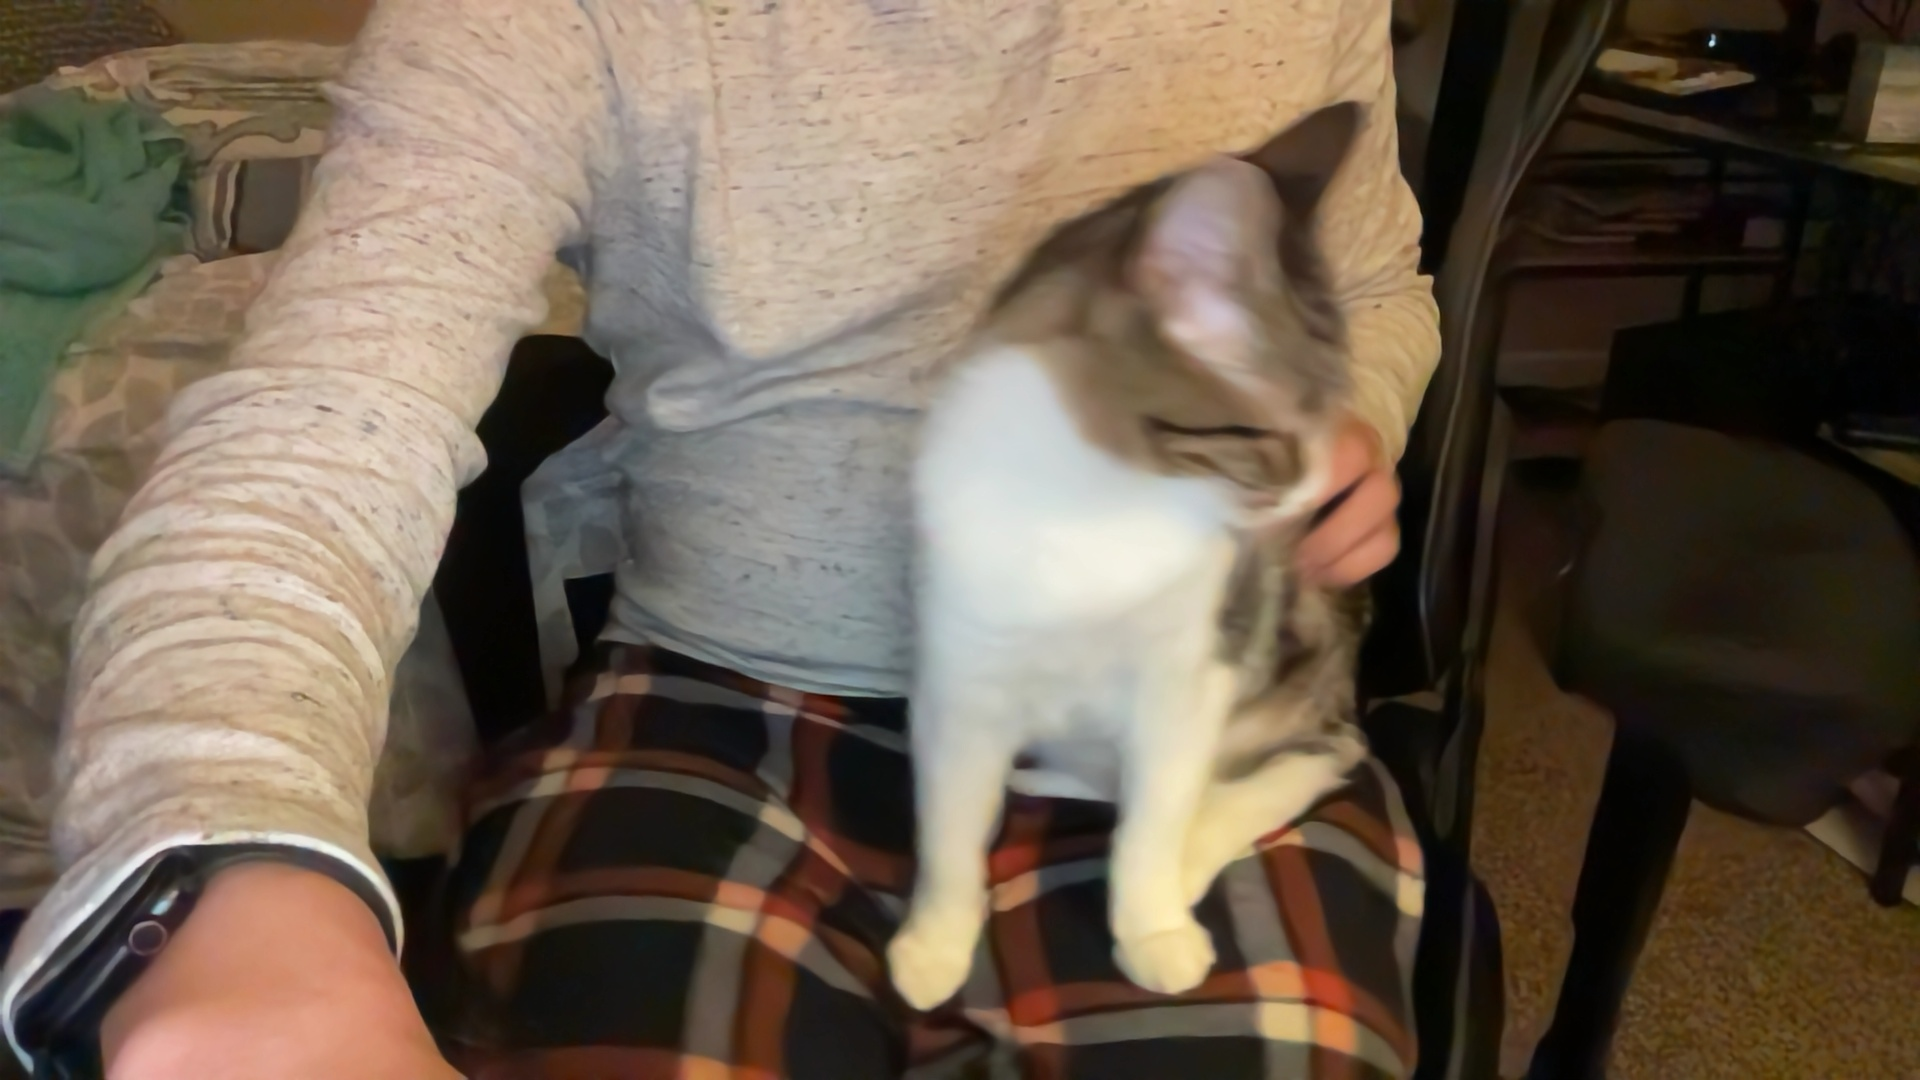cat: (862, 84, 1396, 1035)
